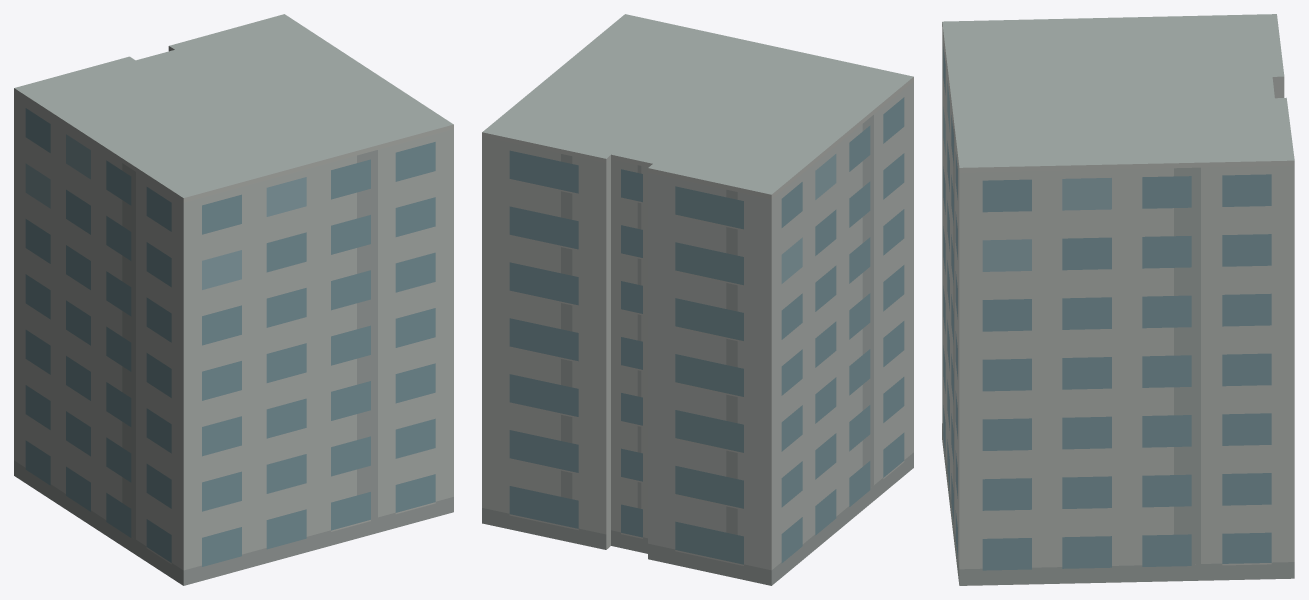
The model's file is survey-upis-32951317.glb.
The picture shows the model from 3 angles, left to right: view 1: azimuth 30°, elevation 25°; view 2: azimuth 150°, elevation 25°; view 3: azimuth 270°, elevation 25°; orthographic projection. The views are drawn at different scales.
Visible parts, largest first — view 1: survey-upis-32951317.tmp; view 2: survey-upis-32951317.tmp; view 3: survey-upis-32951317.tmp.
Boxes of the visible parts, left/top/right/bottom form: survey-upis-32951317.tmp: left=14, top=14, right=453, bottom=585; survey-upis-32951317.tmp: left=482, top=14, right=913, bottom=585; survey-upis-32951317.tmp: left=942, top=14, right=1294, bottom=585.
Size of the model in its own units: 16.19 by 20.5 by 15.68.
